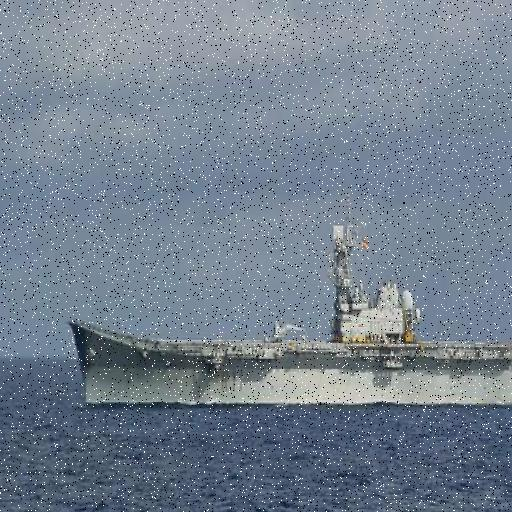Portanaves: (69, 186, 512, 415)
